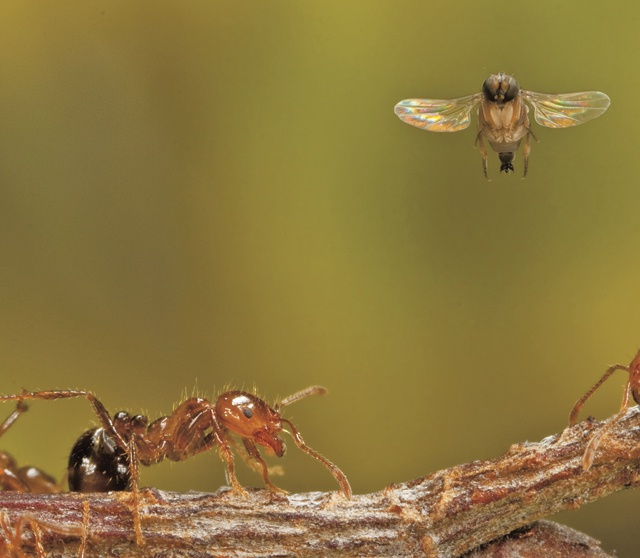phorid fly: (365, 54, 631, 193)
